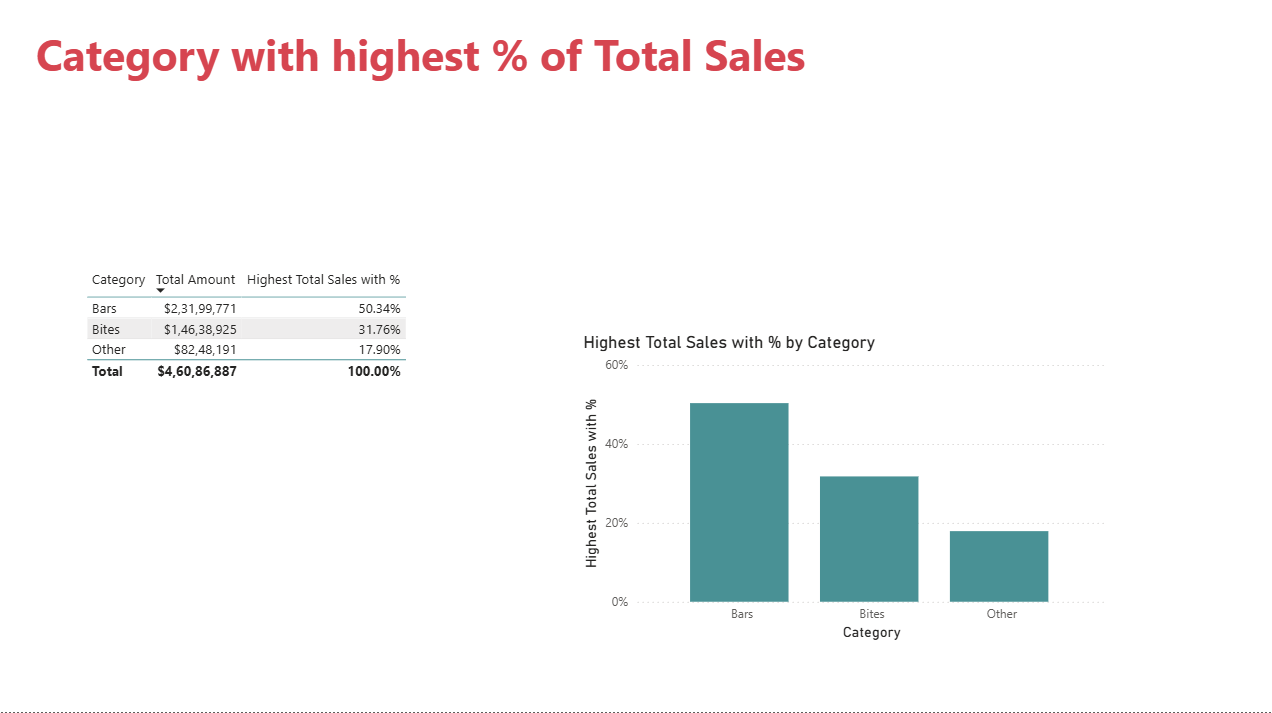

This screenshot's page, from the dashboard's own definition file:
{"tool":"powerbi","page":{"name":"CATEGORY WITH HIGHEST % OF TOTAL ","canvas":[1280,720],"ordinal":1},"visuals":[{"type":"columnChart","fields":{"Category":["products.Category"],"Y":["sales.Highest Total Sales with %"]},"box":[582.5,340,532.5,313.8],"z":0},{"type":"tableEx","fields":{"Values":["products.Category","sales.Total Amount","sales.Highest Total Sales with %"]},"box":[85,271.2,357.5,260],"z":1000},{"type":"textbox","box":[35,27.5,813.8,95],"z":2000}]}

Visuals, with their boxes in screenshot pixels (x1, y1, x2, y2), scaled from the page's 1280x720 canvas onto the 1272x713 screenshot:
columnChart - products.Category x sales.Highest Total Sales with %: {"x1": 579, "y1": 337, "x2": 1108, "y2": 647}
tableEx - products.Category x sales.Total Amount: {"x1": 84, "y1": 269, "x2": 440, "y2": 526}
textbox: {"x1": 35, "y1": 27, "x2": 843, "y2": 121}
